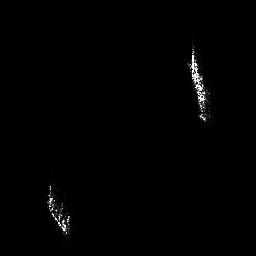ship: (188, 46, 210, 123), (46, 183, 73, 236)
